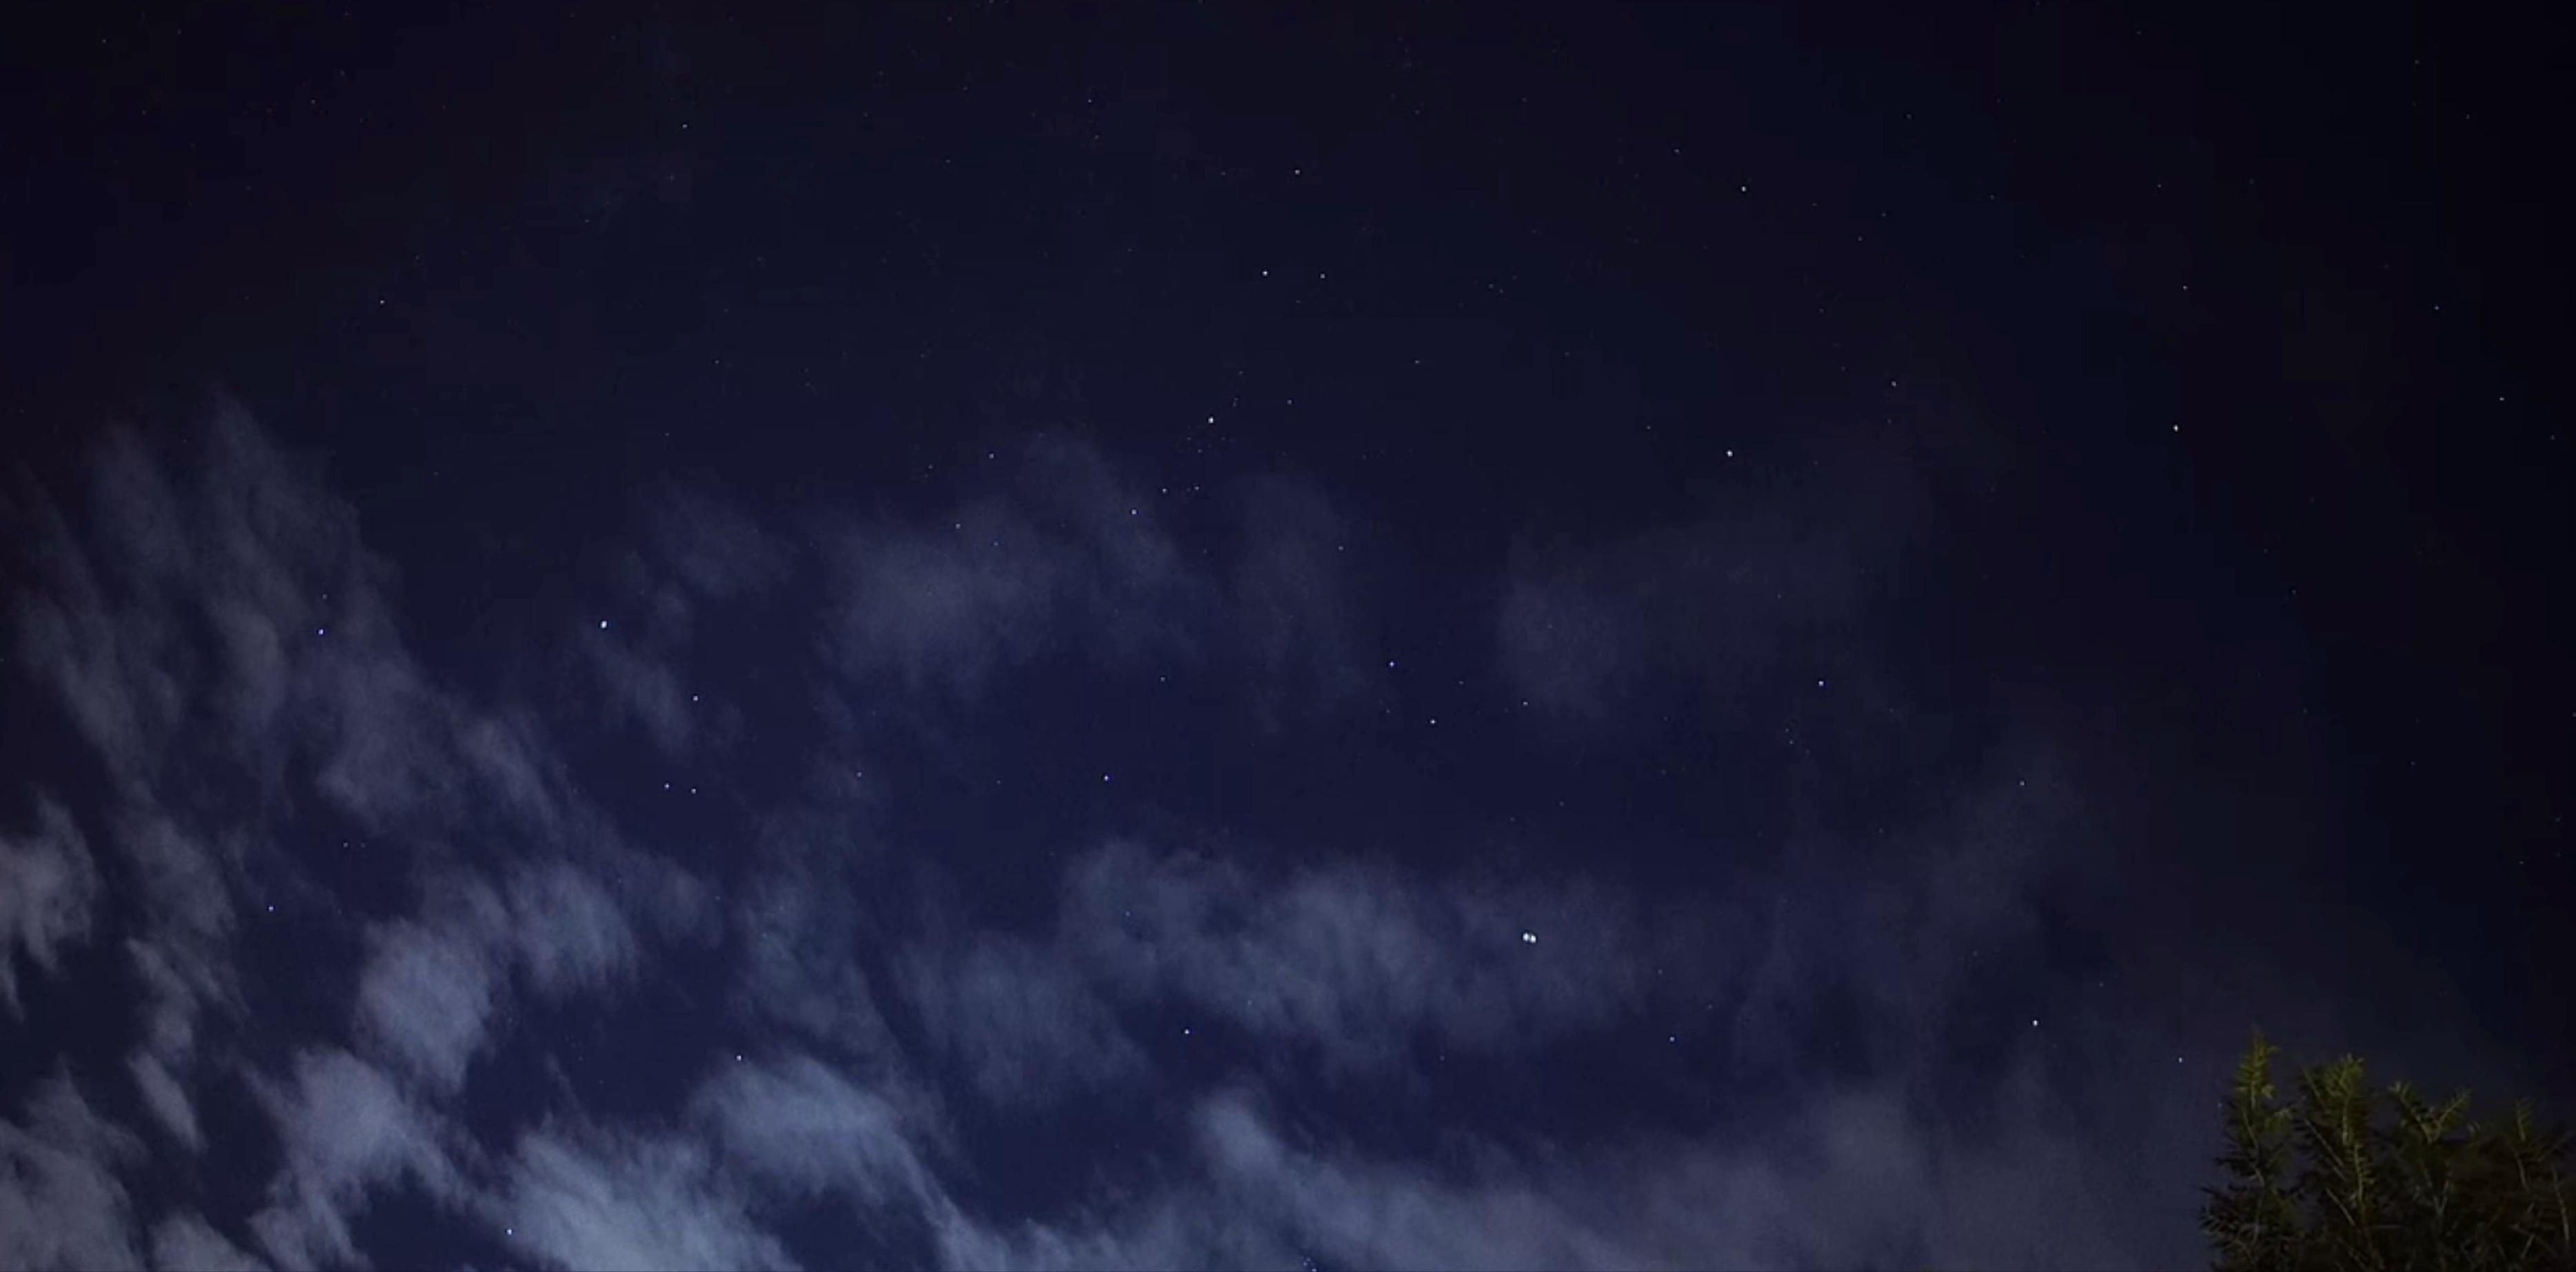Plane: (1505, 915, 1551, 953)
